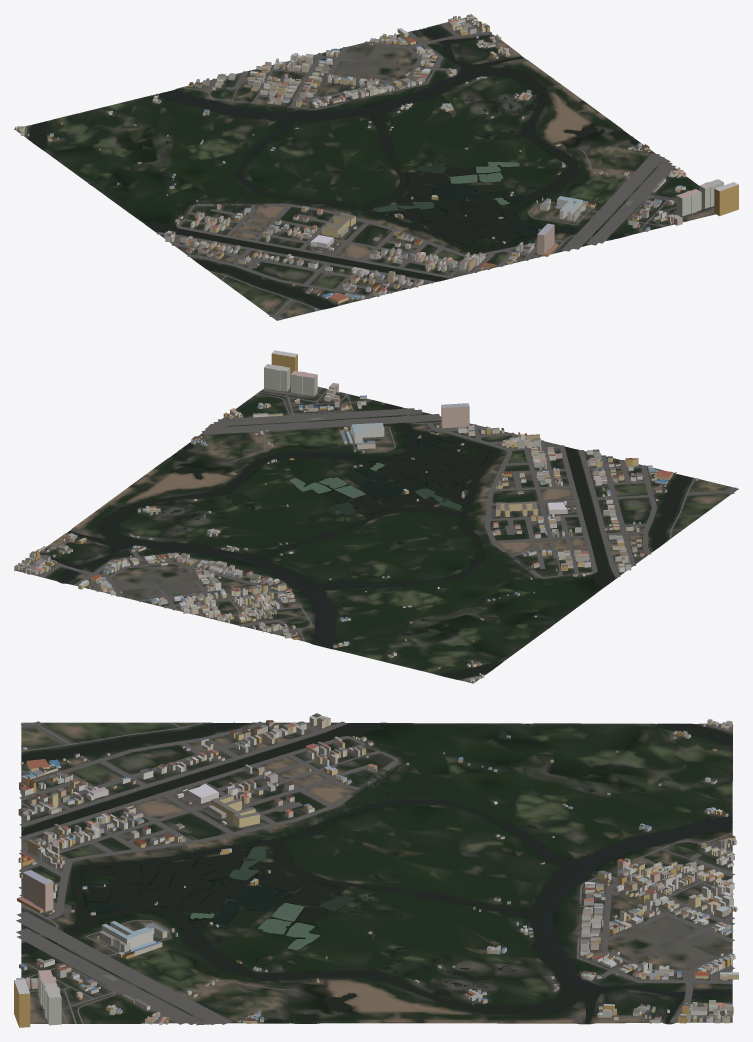
3 renders of one model, top to bottom at view 1: azimuth 30°, elevation 25°; view 2: azimuth 150°, elevation 25°; view 3: azimuth 270°, elevation 25°, orthographic. The views are drawn at different scales.
Visible parts, largest first — view 1: ground, water, buildings, roads; view 2: ground, water, buildings, roads; view 3: ground, water, buildings, roads.
Boxes of the visible parts, x1,y1,x2,y2 form: ground: [14, 17, 715, 320]; water: [29, 28, 640, 308]; buildings: [15, 14, 738, 310]; roads: [25, 18, 689, 320]; ground: [14, 381, 738, 683]; water: [39, 403, 689, 678]; buildings: [14, 350, 698, 683]; roads: [20, 387, 736, 682]; ground: [21, 722, 732, 1024]; water: [21, 722, 732, 1023]; buildings: [14, 713, 738, 1027]; roads: [16, 721, 734, 1025].
Bounding box in the file's own units: 1425 × 77 × 1427.
